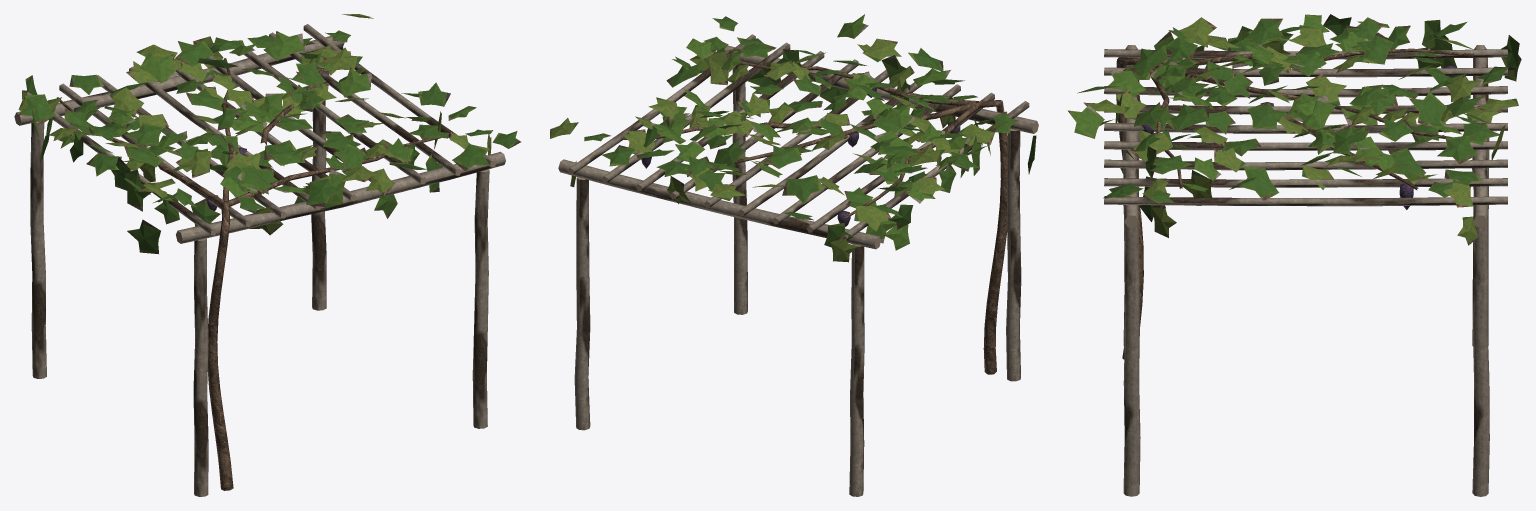
Rendered from grape_trellis.glb.
3 views of the same model, side by side, from view 1: azimuth 30°, elevation 25°; view 2: azimuth 150°, elevation 25°; view 3: azimuth 270°, elevation 25° (orthographic). The views are drawn at different scales.
Parts seen in each view (by area): view 1: grape_leaves, grape_trellis; view 2: grape_leaves, grape_trellis; view 3: grape_leaves, grape_trellis.
Part boxes in pixels (x1=…): grape_leaves: x1=18, y1=14, x2=520, y2=253; grape_trellis: x1=14, y1=24, x2=505, y2=496; grape_leaves: x1=550, y1=14, x2=1036, y2=262; grape_trellis: x1=558, y1=34, x2=1038, y2=496; grape_leaves: x1=1067, y1=14, x2=1521, y2=245; grape_trellis: x1=1104, y1=45, x2=1507, y2=496.
Bounding box in the file's own units: 3.72 × 2.94 × 3.65.
2 materials, 2 textured.
